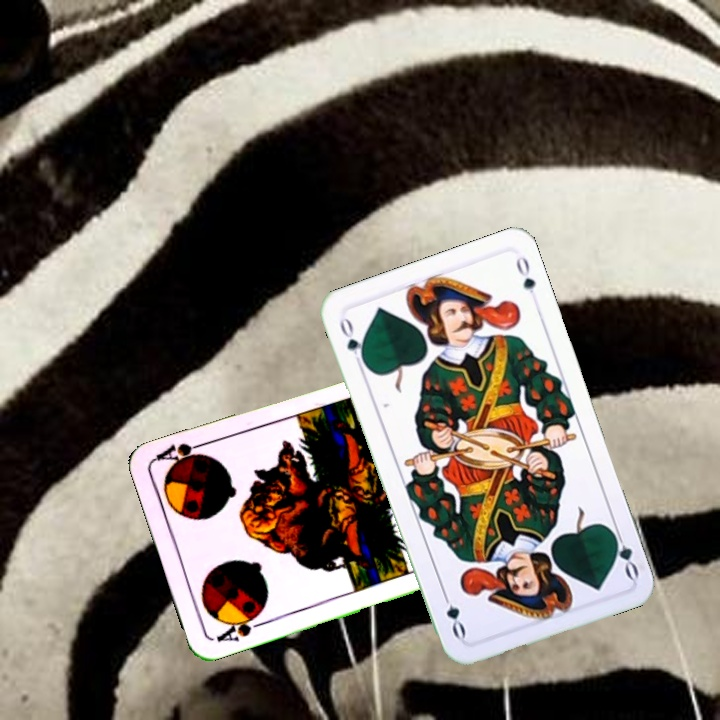GO: (606, 523, 642, 582), (335, 313, 369, 370)
SA: (212, 607, 269, 645)
